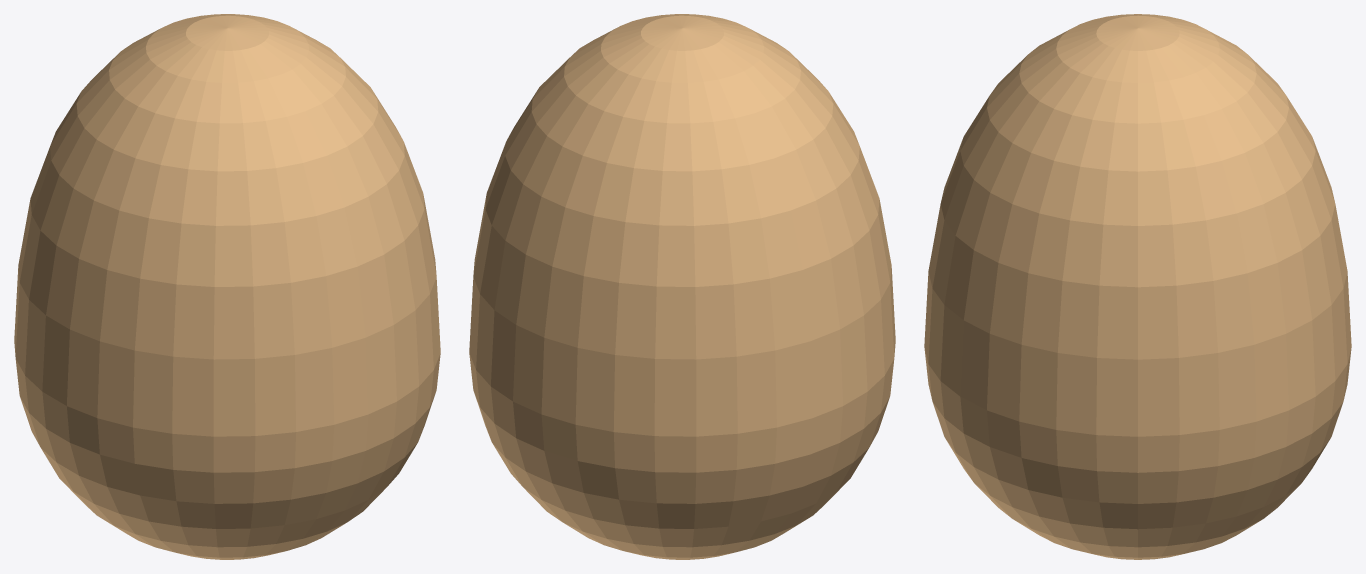
File: egg.glb
3 renders of one model, left to right at view 1: azimuth 30°, elevation 25°; view 2: azimuth 150°, elevation 25°; view 3: azimuth 270°, elevation 25°, orthographic.
Visible parts, largest first — view 1: Sphere; view 2: Sphere; view 3: Sphere.
Part boxes in pixels (box(x1,y1,x2,y2)): Sphere: box(14, 14, 440, 559); Sphere: box(469, 14, 895, 559); Sphere: box(924, 14, 1351, 559).
Size of the model in its own units: 2 by 2.64 by 2.
